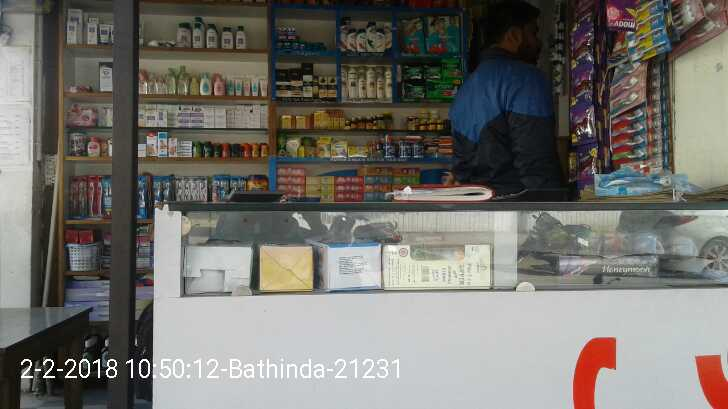oralcare: (610, 64, 672, 174), (67, 177, 113, 220), (135, 174, 172, 220), (175, 175, 209, 204), (211, 177, 244, 201)
vicks: (277, 25, 328, 50)
